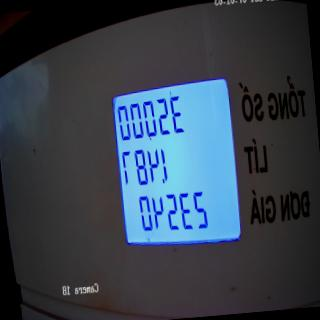screen: (106, 65, 246, 254)
